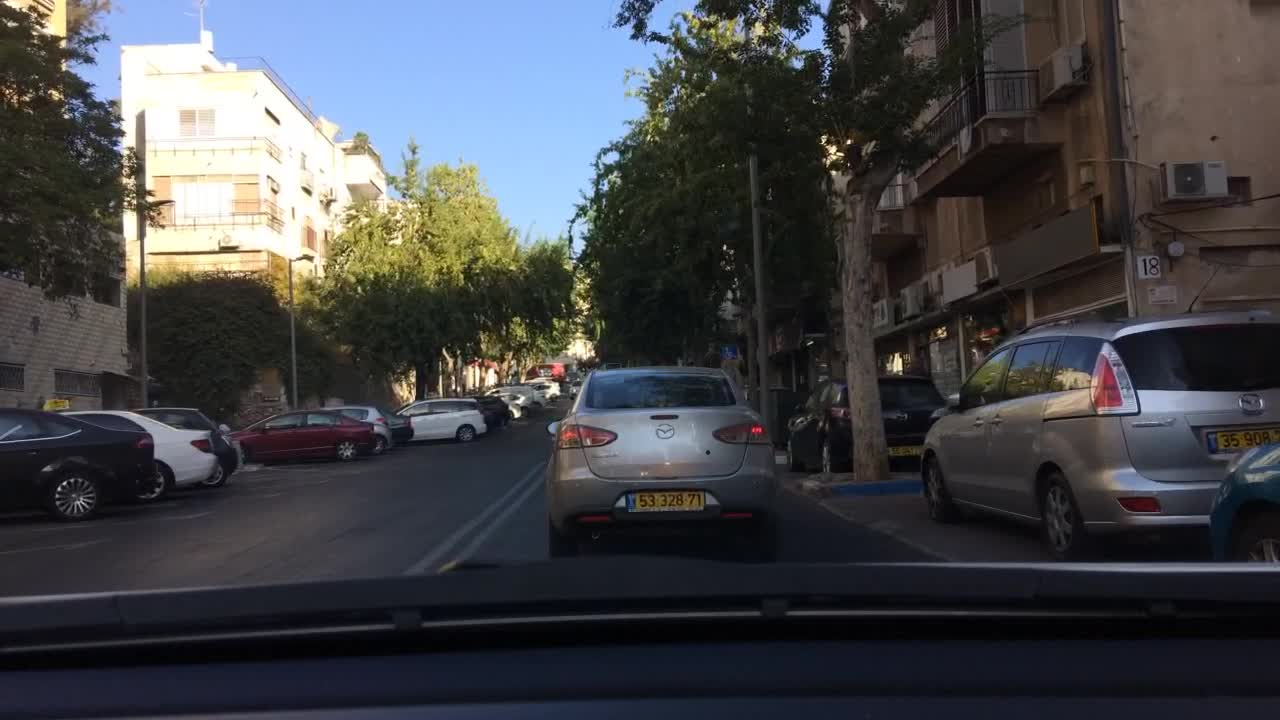car: (917, 310, 1277, 563), (538, 364, 780, 562), (0, 405, 161, 524), (780, 369, 950, 475), (52, 406, 228, 507), (128, 404, 243, 488), (223, 403, 382, 462), (1204, 438, 1277, 564), (393, 395, 488, 443), (323, 404, 396, 455), (483, 382, 546, 407), (379, 406, 415, 446), (476, 395, 514, 428), (498, 392, 533, 418), (522, 360, 568, 376), (528, 376, 561, 398), (568, 379, 583, 401), (563, 371, 580, 382)
traffic sign: (1135, 255, 1162, 281), (1146, 283, 1177, 305), (41, 394, 70, 411), (723, 343, 741, 360)
